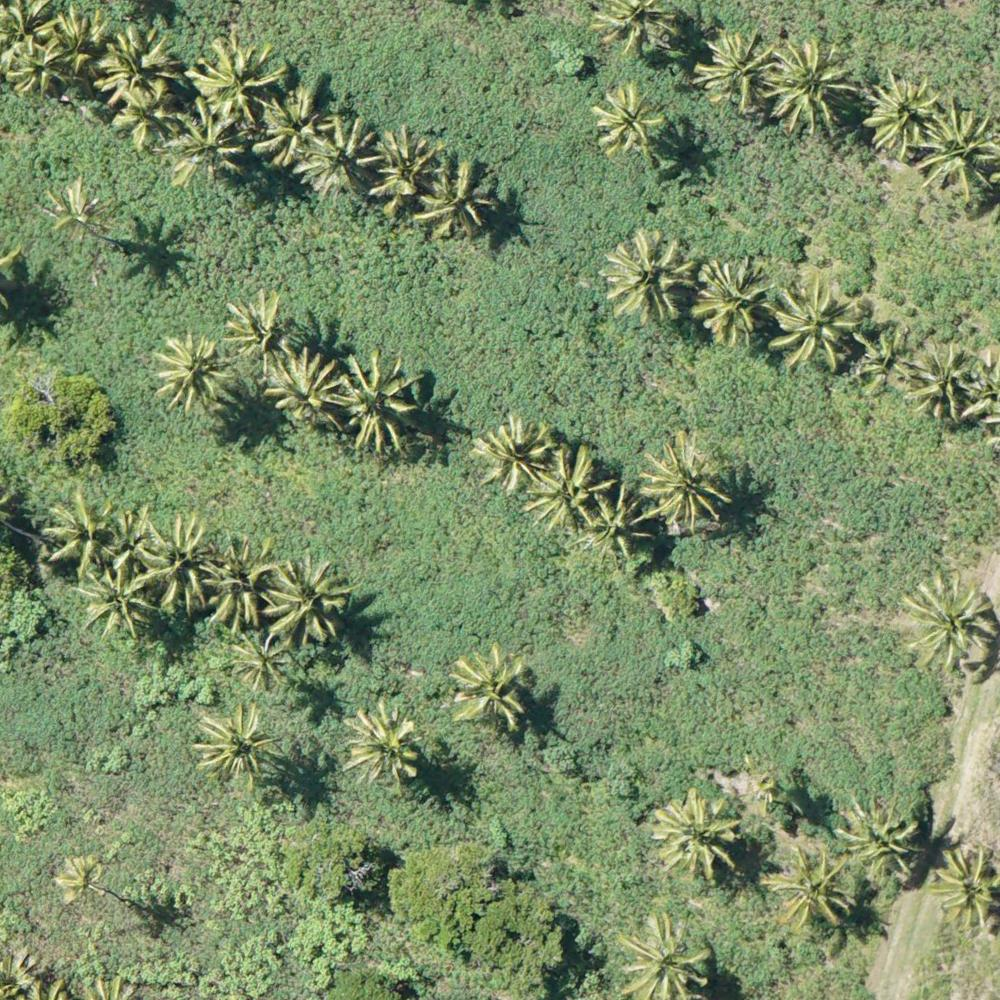Palm: (332, 346, 426, 456), (138, 517, 229, 621), (769, 39, 864, 138), (188, 36, 287, 127), (258, 554, 355, 646), (911, 571, 997, 668), (615, 915, 712, 999), (640, 438, 735, 523), (604, 233, 695, 319), (766, 847, 855, 933), (298, 115, 383, 205), (920, 108, 1000, 203), (526, 446, 612, 534), (196, 536, 280, 626), (778, 280, 862, 367), (652, 797, 741, 878), (695, 28, 779, 112), (447, 650, 530, 732), (866, 72, 946, 156), (40, 491, 121, 572), (264, 347, 346, 427), (843, 798, 924, 878), (102, 23, 184, 102), (197, 699, 275, 782), (163, 106, 246, 183), (253, 85, 329, 167), (578, 494, 662, 568), (471, 416, 551, 492), (696, 263, 771, 344), (342, 708, 423, 783), (153, 332, 234, 406), (419, 162, 496, 238), (370, 129, 437, 213), (221, 290, 292, 367), (79, 566, 156, 636), (591, 2, 675, 63), (933, 846, 1000, 920), (909, 345, 978, 416), (595, 83, 665, 147), (43, 177, 114, 238), (230, 631, 299, 692), (5, 35, 65, 98), (843, 328, 907, 386), (51, 850, 111, 902)
